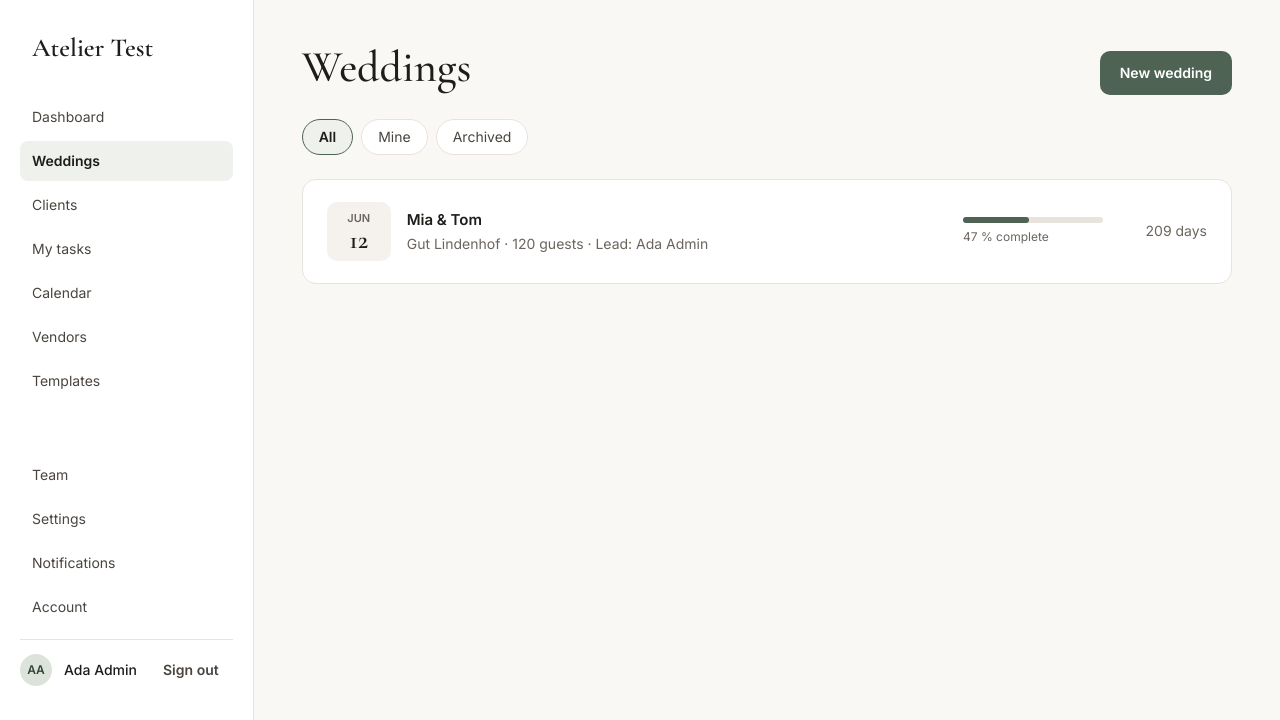
lists weddings with progress and switches to the archive
Expected: the text "47 % complete" is shown, [963,229,1049,244]
Expected: the text "209 days" is shown, [1146,222,1207,239]
Click the button "Archived".
click(482, 137)  # box [436,119,528,155]
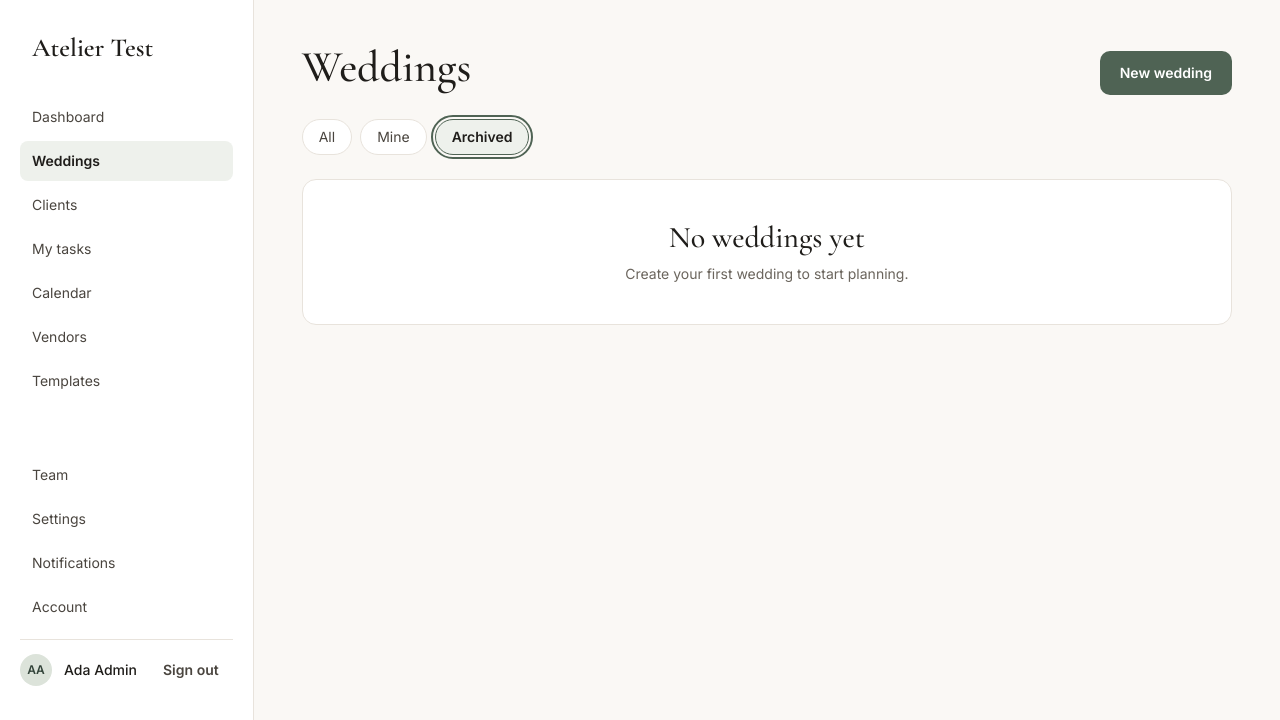
Result: the heading "No weddings yet" is shown at [669,219,865,256]
